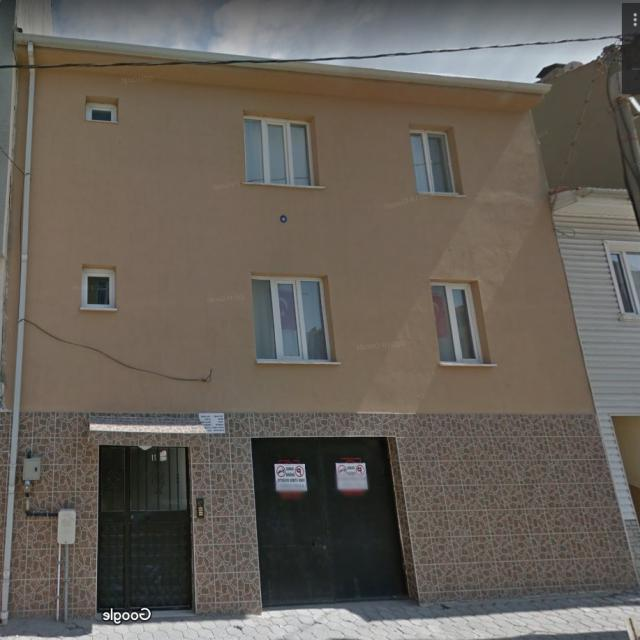Building: (1, 33, 640, 622)
